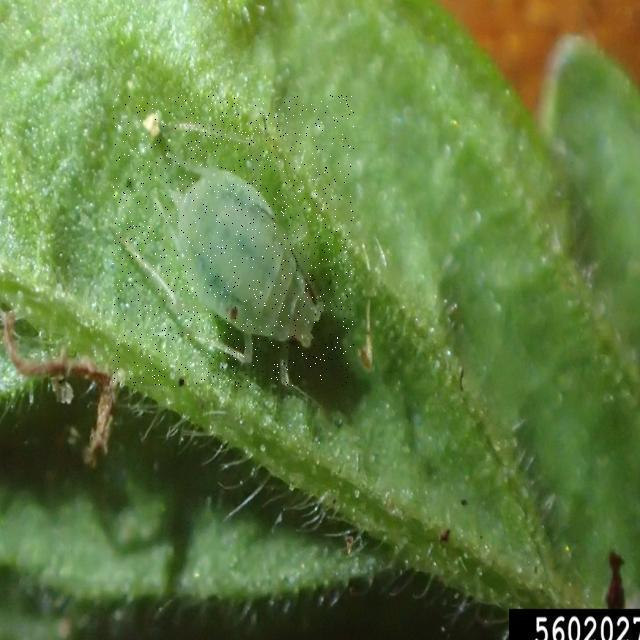aphid: (112, 95, 354, 387)
